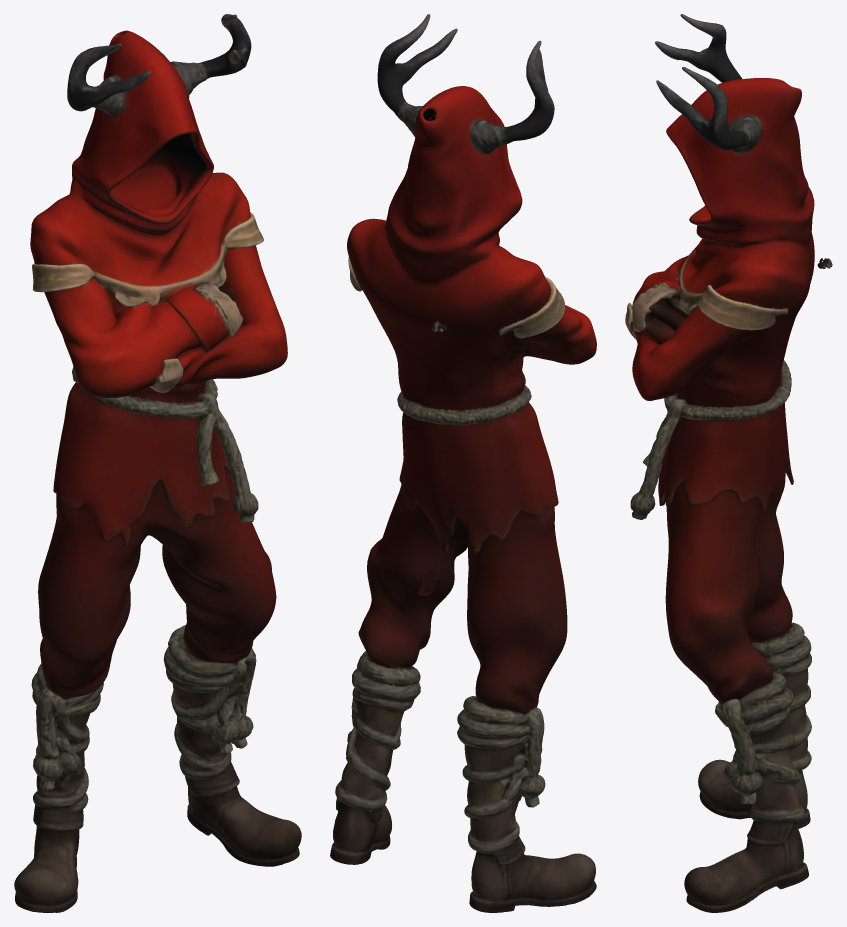
File: sample_cloaked_shadow_3d_1_revised.fbx
3 renders of one model, left to right at view 1: azimuth 30°, elevation 25°; view 2: azimuth 150°, elevation 25°; view 3: azimuth 270°, elevation 25°, orthographic. The views are drawn at different scales.
Visible parts, largest first — view 1: world; view 2: world; view 3: world.
Part boxes in pixels (x1,y1,x2,y2): world: (14, 14, 301, 912); world: (330, 14, 596, 912); world: (625, 14, 832, 912).
Size of the model in its own units: 0.3276 by 1 by 0.2315.
1 material, 1 textured.
